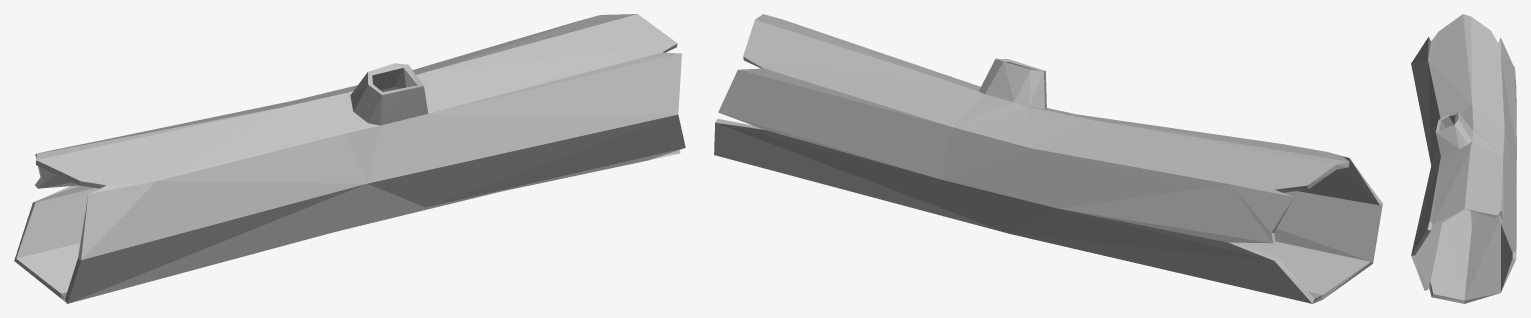
File: Log_01.fbx
3 renders of one model, left to right at view 1: azimuth 30°, elevation 25°; view 2: azimuth 150°, elevation 25°; view 3: azimuth 270°, elevation 25°, orthographic. The views are drawn at different scales.
Visible parts, largest first — view 1: Log_01; view 2: Log_01; view 3: Log_01.
Part boxes in pixels (x1=…): Log_01: x1=14, y1=14, x2=685, y2=303; Log_01: x1=714, y1=14, x2=1382, y2=303; Log_01: x1=1411, y1=14, x2=1516, y2=303.
Bounding box in the file's own units: 3.07 × 0.7511 × 0.6893.
